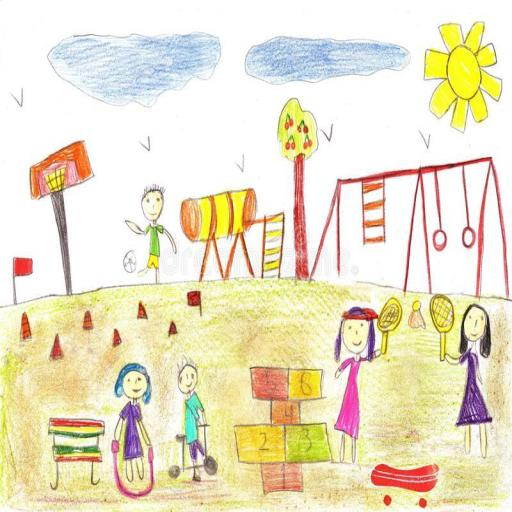person: (325, 305, 379, 468), (444, 301, 496, 464), (169, 352, 217, 486), (109, 360, 156, 488), (127, 181, 177, 289)
